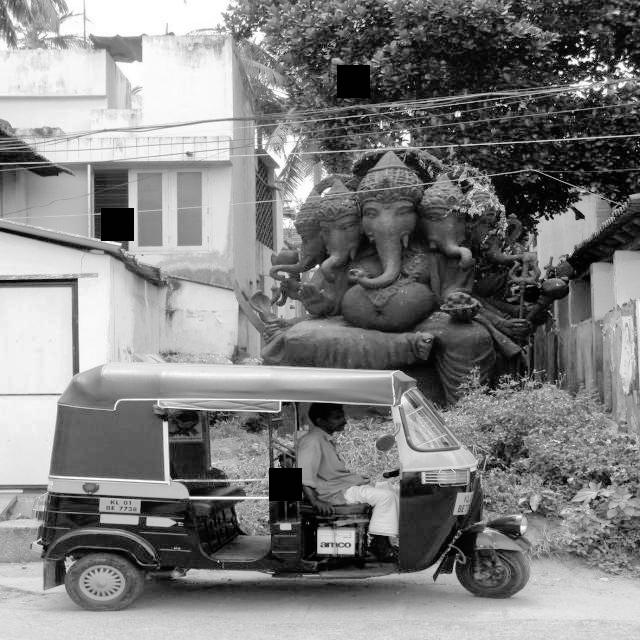Auto-Rickshaw: (29, 365, 535, 612)
